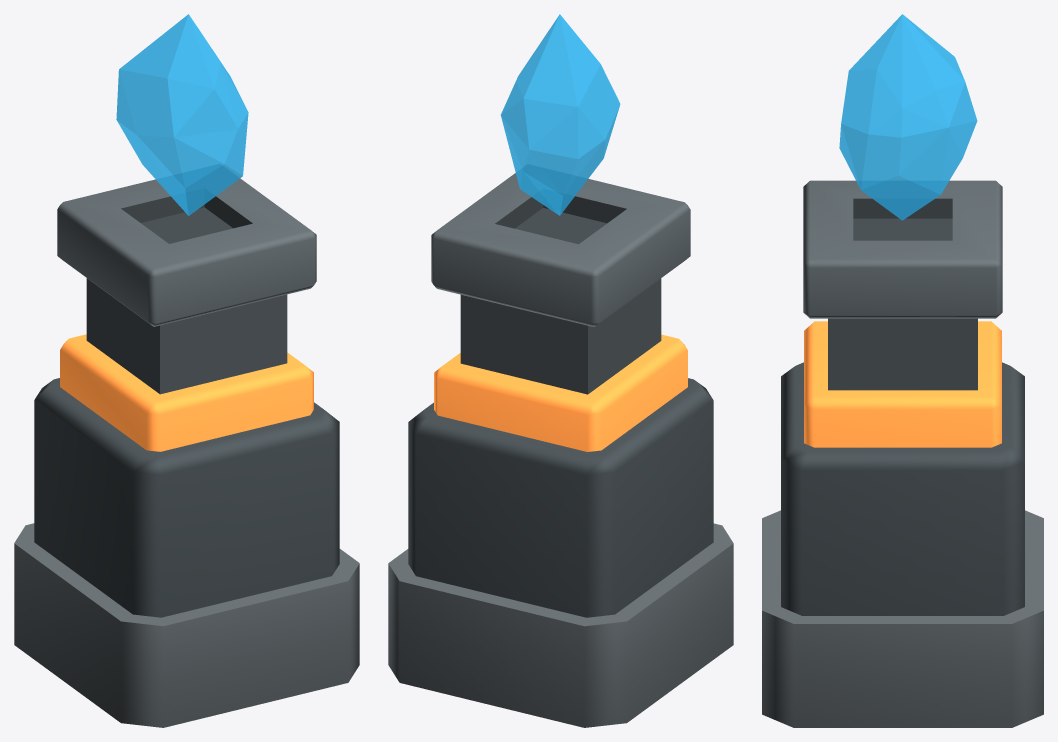
The model's file is pillar_006.glb.
3 views of the same model, side by side, from view 1: azimuth 30°, elevation 25°; view 2: azimuth 150°, elevation 25°; view 3: azimuth 270°, elevation 25° (orthographic). The views are drawn at different scales.
Parts seen in each view (by area): view 1: pillar_006; view 2: pillar_006; view 3: pillar_006.
Boxes of the visible parts, x1,y1,x2,y2 form: pillar_006: (14, 14, 359, 727); pillar_006: (388, 14, 733, 727); pillar_006: (762, 14, 1043, 727).
Bounding box in the file's own units: 1 × 2.56 × 1.
Materials: 3 (3 with a texture image).
